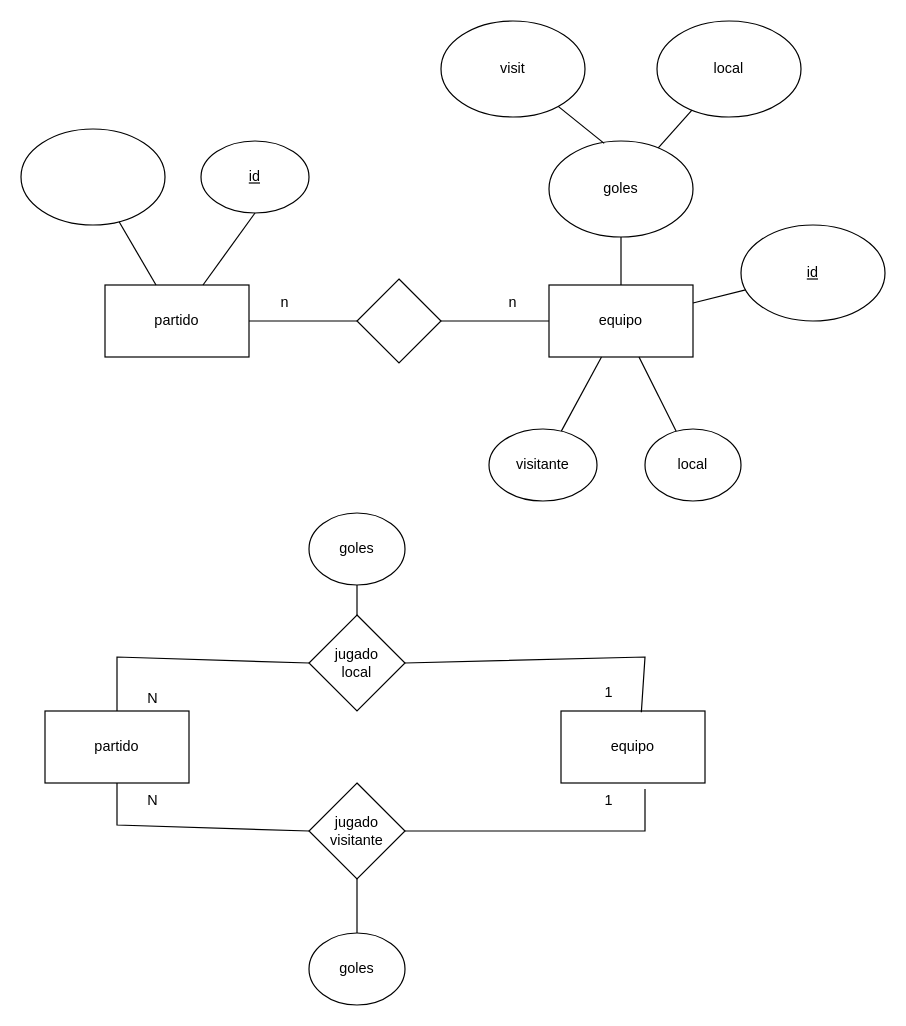
The diagram is 906 pixels wide and 1026 high, and some of its shapes have lost their labels. The shapes that lost their labels are listed below. From the top down, each one's box as (x1, y1, x2, y2) in pixels, then its label:
(20, 128, 165, 225): fecha y hora
(356, 278, 441, 363): jugado
